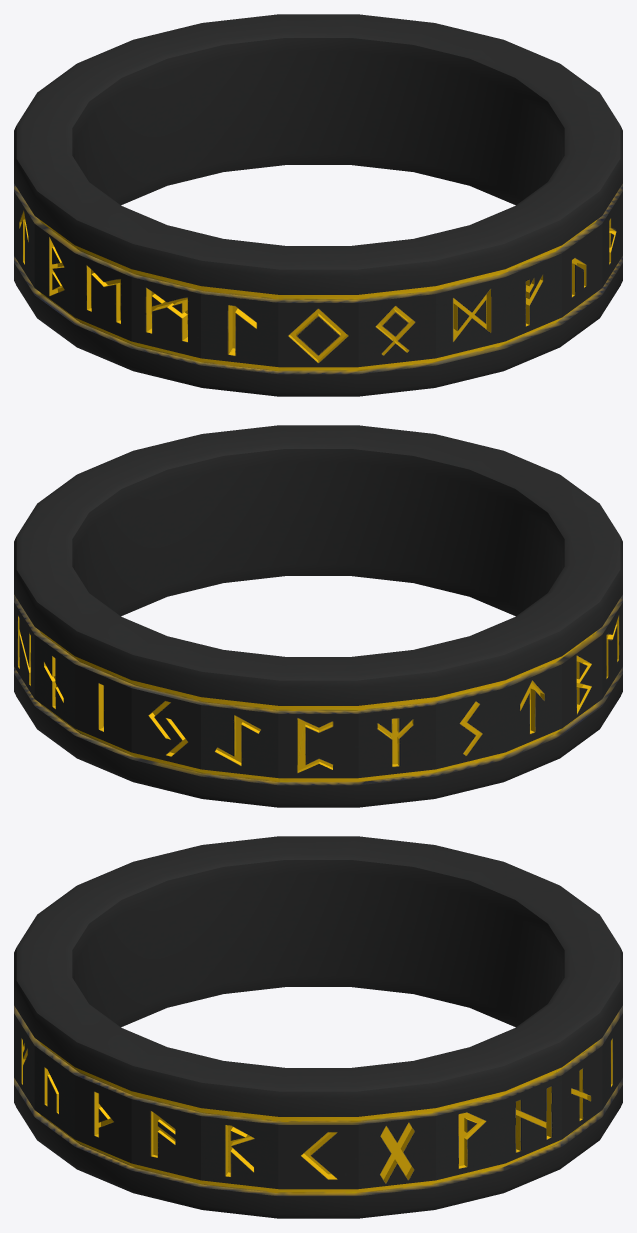
The model's file is Amazfit_ring.glb.
The picture shows the model from 3 angles, top to bottom: view 1: azimuth 30°, elevation 25°; view 2: azimuth 150°, elevation 25°; view 3: azimuth 270°, elevation 25°; orthographic projection.
Parts seen in each view (by area): view 1: pPipe26; view 2: pPipe26; view 3: pPipe26.
Part boxes in pixels (left/top/right/bottom): pPipe26: left=14, top=14, right=622, bottom=396; pPipe26: left=14, top=425, right=622, bottom=807; pPipe26: left=14, top=836, right=622, bottom=1218.
Bounding box in the file's own units: 0.3034 × 0.0724 × 0.3034.
Materials: 1 (1 with a texture image).
